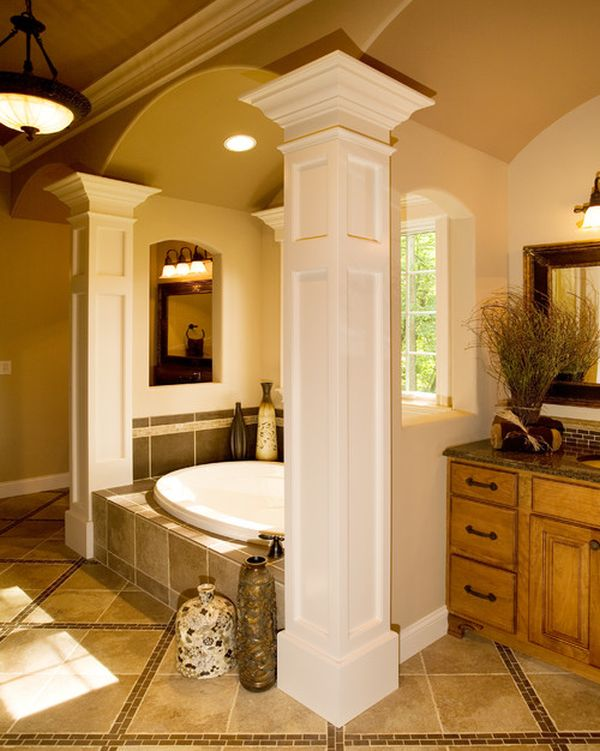pole: (221, 38, 445, 728), (38, 162, 169, 566)
